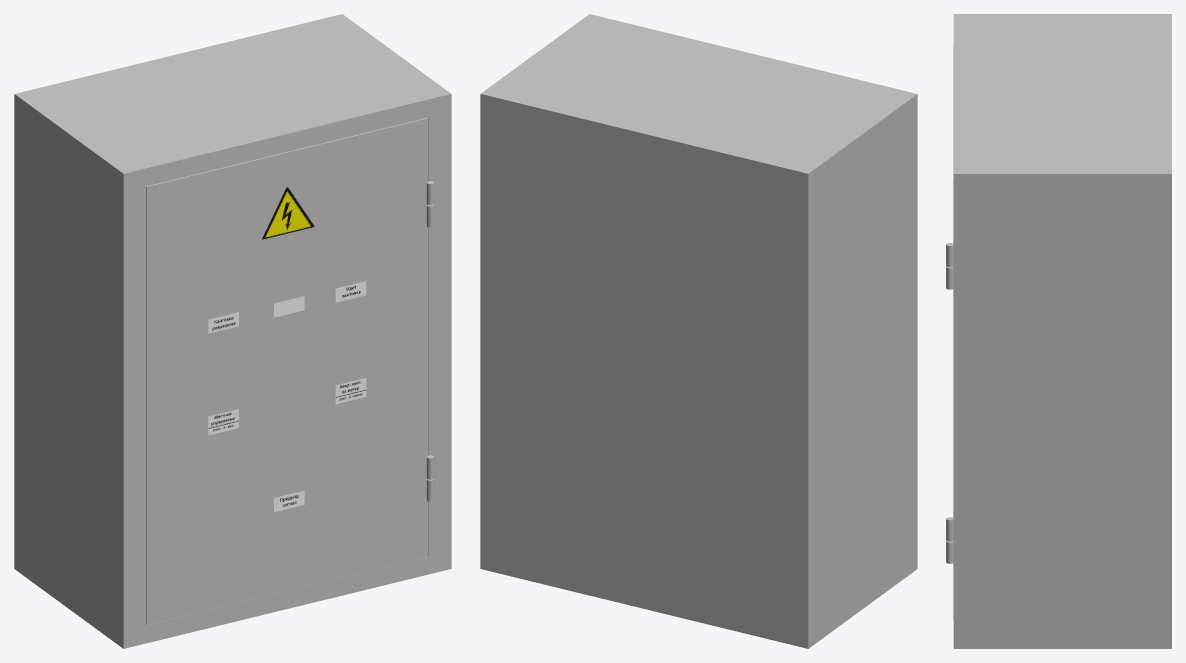
File: BoxKipLeft.fbx
3 views of the same model, side by side, from view 1: azimuth 30°, elevation 25°; view 2: azimuth 150°, elevation 25°; view 3: azimuth 270°, elevation 25° (orthographic).
Parts seen in each view (by area): view 1: Cube.001; view 2: Cube.001; view 3: Cube.001.
Part boxes in pixels (x1,y1,x2,y2): Cube.001: (14,14,451,648); Cube.001: (480,14,917,648); Cube.001: (946,14,1171,648).
Size of the model in its own units: 60 by 83.08 by 35.81.
